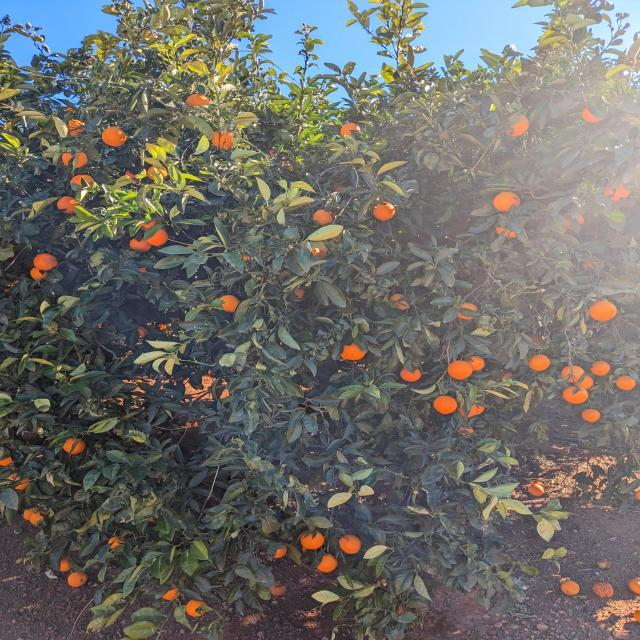Jeruk Sudah Matang: (589, 300, 617, 322), (493, 191, 520, 213), (101, 126, 128, 147), (506, 114, 528, 137), (448, 361, 474, 380), (62, 148, 88, 166), (604, 182, 630, 200), (300, 531, 325, 549), (340, 344, 366, 361), (212, 130, 234, 150), (339, 535, 362, 554), (34, 254, 58, 272), (434, 396, 458, 414), (564, 386, 588, 404), (373, 202, 396, 220), (70, 173, 94, 190), (561, 365, 585, 382), (58, 196, 80, 214), (316, 554, 338, 572), (8, 474, 31, 491), (146, 229, 168, 246), (219, 294, 239, 312), (186, 599, 206, 617), (530, 354, 551, 371), (581, 107, 603, 123), (67, 572, 89, 588), (314, 209, 334, 226), (64, 438, 84, 455), (458, 303, 478, 320), (146, 166, 168, 181), (68, 119, 86, 137), (590, 360, 610, 376), (130, 238, 152, 252), (564, 215, 586, 229), (458, 402, 477, 418), (187, 94, 210, 107), (341, 123, 362, 137), (468, 356, 486, 372), (162, 584, 180, 600), (400, 368, 420, 382), (616, 376, 636, 390), (311, 242, 328, 258), (30, 510, 48, 525), (392, 294, 408, 310), (30, 268, 50, 280), (108, 536, 125, 550), (582, 410, 601, 422), (496, 226, 518, 236), (528, 484, 545, 496), (138, 220, 159, 228), (274, 546, 288, 558), (23, 507, 34, 521), (60, 559, 72, 571), (124, 170, 137, 180), (0, 456, 13, 466), (474, 406, 486, 416)
